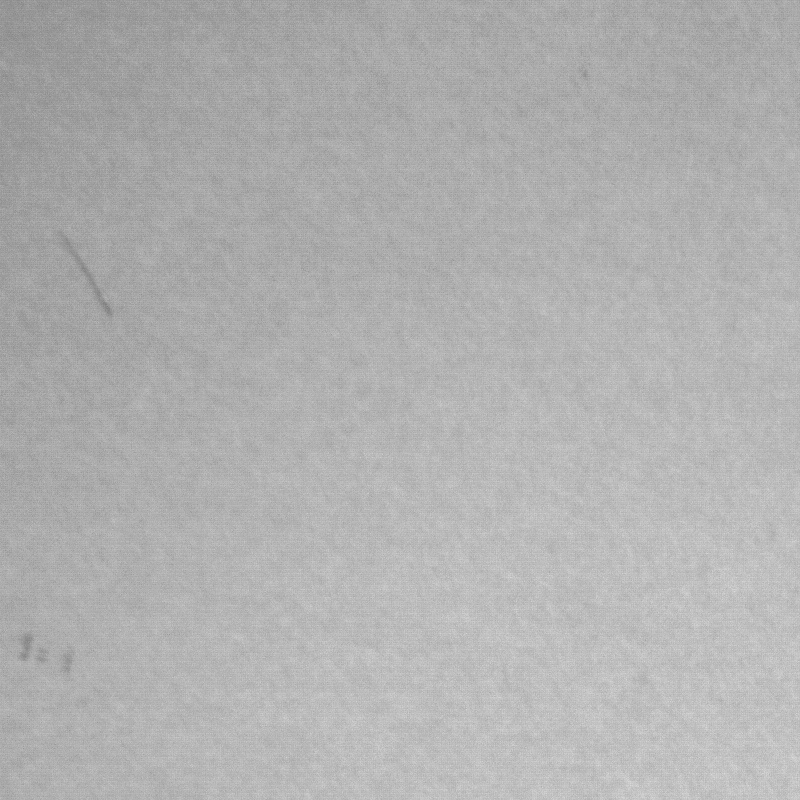defect: (64, 236, 117, 319), (18, 633, 79, 668)
